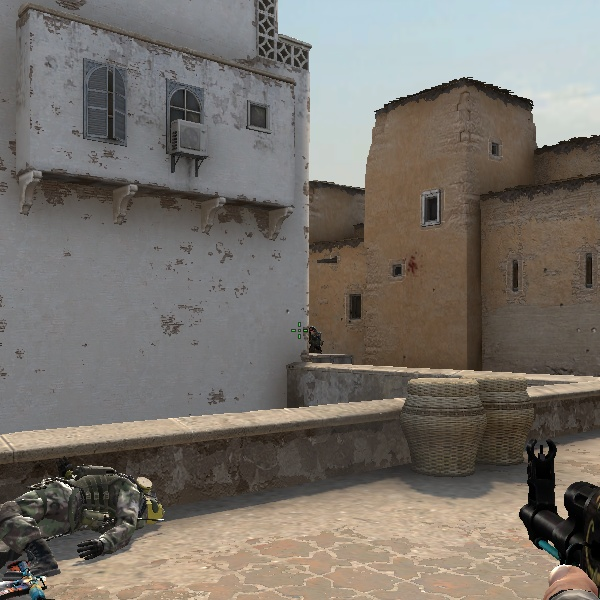ct_body: (300, 324, 328, 357)
